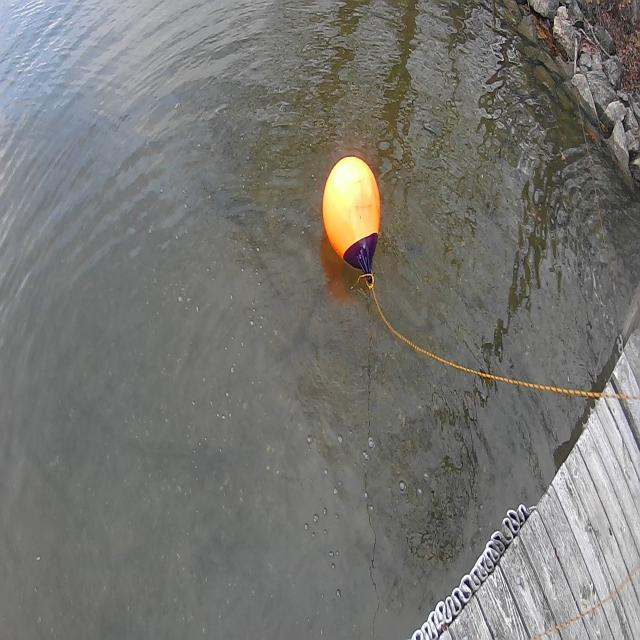Buoy: (320, 154, 387, 283)
